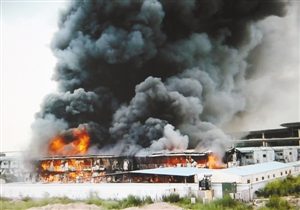fire: (46, 134, 109, 185), (159, 149, 228, 171)
smoke: (59, 2, 246, 125)
